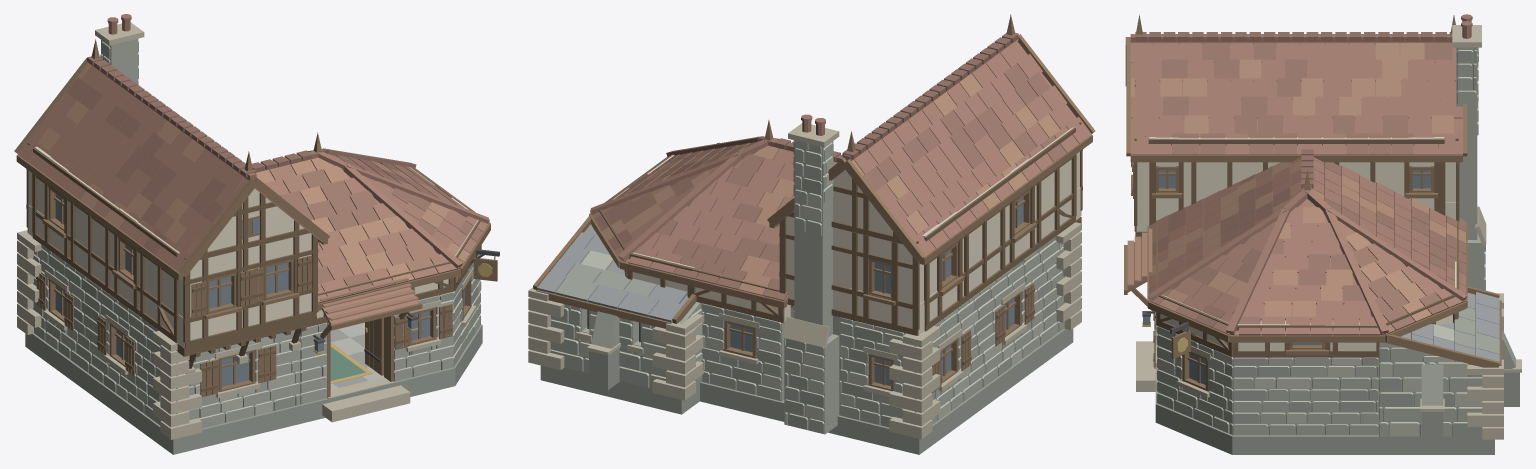
File: bank.glb
The picture shows the model from 3 angles, left to right: view 1: azimuth 30°, elevation 25°; view 2: azimuth 150°, elevation 25°; view 3: azimuth 270°, elevation 25°; orthographic projection. The views are drawn at different scales.
Parts seen in each view (by area): view 1: Bank_RoofTiles, Bank_ShellFacing, Bank_UpperShellTimber, Bank_RoofTrim, Bank_UpperShell, Bank_FloorPlinth, Bank_ShellWindows, Bank_ShellQuoins, Bank_UpperShellWindows, Bank_RoofHood, Bank_UpperChimney, Bank_ShellStone (+10 smaller); view 2: Bank_RoofTiles, Bank_ShellFacing, Bank_RoofTrim, Bank_ShellQuoins, Bank_UpperShellTimber, Bank_UpperShell, Bank_FloorPlinth, Bank_UpperChimney, Bank_ShellChimneyBase, Bank_RoofSlabStones, Bank_ShellWindows, Bank_ShellStone (+6 smaller); view 3: Bank_RoofTiles, Bank_ShellFacing, Bank_RoofTrim, Bank_FloorPlinth, Bank_ShellStone, Bank_UpperShell, Bank_UpperShellTimber, Bank_UpperChimney, Bank_RoofSlabStones, Bank_ShellFriezeTimber, Bank_RoofSlab, Bank_ShellQuoins (+9 smaller).
Boxes of the visible parts, x1,y1,x2,y2 form: Bank_RoofTiles: (18,62,488,303); Bank_ShellFacing: (26,232,481,428); Bank_UpperShellTimber: (26,142,318,348); Bank_RoofTrim: (14,39,490,310); Bank_UpperShell: (28,146,311,347); Bank_FloorPlinth: (25,324,482,454); Bank_ShellWindows: (36,267,476,398); Bank_ShellQuoins: (17,230,201,439); Bank_UpperShellWindows: (42,187,312,319); Bank_RoofHood: (319,277,422,330); Bank_UpperChimney: (95,14,144,85); Bank_ShellStone: (37,248,477,428); Bank_RoofTiles: (591,39,1091,300); Bank_ShellFacing: (549,237,1065,427); Bank_RoofTrim: (533,14,1095,328); Bank_ShellQuoins: (528,222,1081,439); Bank_UpperShellTimber: (779,122,1082,335); Bank_UpperShell: (786,127,1080,335); Bank_FloorPlinth: (540,328,1073,454); Bank_UpperChimney: (788,114,839,321); Bank_ShellChimneyBase: (783,315,839,434); Bank_RoofSlabStones: (537,232,687,322); Bank_ShellWindows: (575,282,1034,396); Bank_ShellStone: (552,240,1062,425); Bank_RoofTiles: (1131,42,1465,335); Bank_ShellFacing: (1156,326,1482,436); Bank_RoofTrim: (1125,14,1501,367); Bank_FloorPlinth: (1155,329,1494,454); Bank_ShellStone: (1158,331,1519,446); Bank_UpperShell: (1136,136,1455,231); Bank_UpperShellTimber: (1134,84,1459,231); Bank_UpperChimney: (1452,14,1481,220); Bank_RoofSlabStones: (1411,292,1499,361); Bank_ShellFriezeTimber: (1155,220,1459,357); Bank_RoofSlab: (1130,43,1474,365); Bank_ShellQuoins: (1420,293,1521,439).
Bounding box in the file's own units: 12.43 × 9.58 × 11.13.
